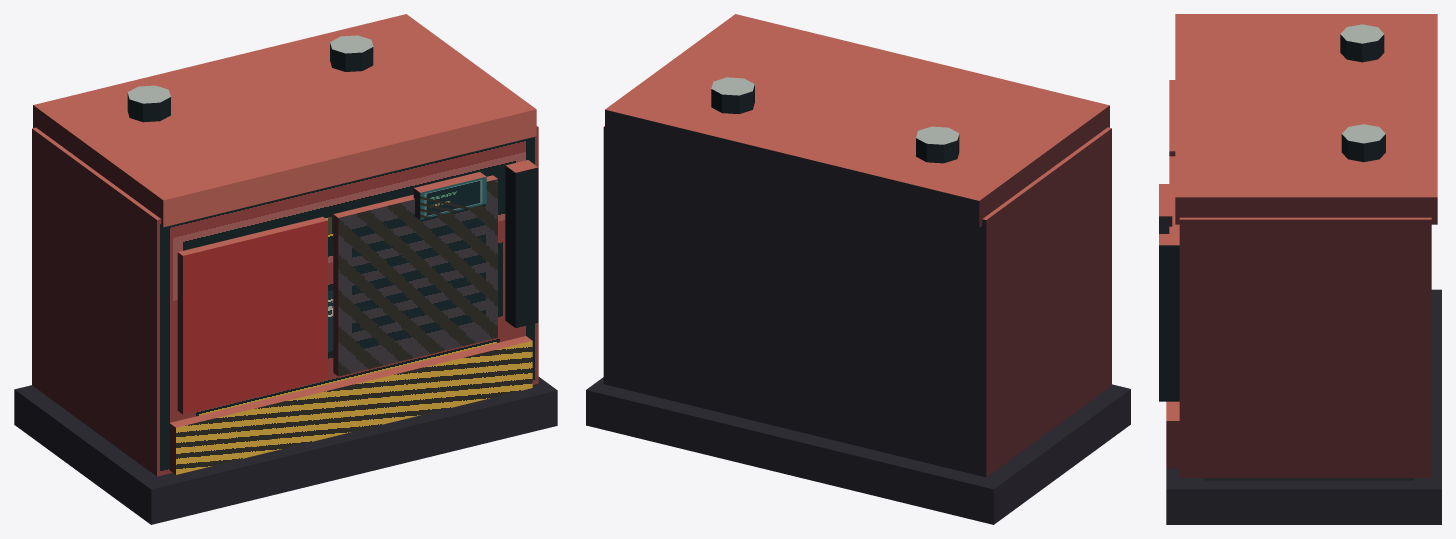
The model's file is generador_emergencia_industrial.glb.
3 renders of one model, left to right at view 1: azimuth 30°, elevation 25°; view 2: azimuth 150°, elevation 25°; view 3: azimuth 270°, elevation 25°, orthographic.
Visible parts, largest first — view 1: GENERADORES_PROPS; view 2: GENERADORES_PROPS; view 3: GENERADORES_PROPS.
Boxes of the visible parts, left/top/right/bottom form: GENERADORES_PROPS: left=14, top=14, right=557, bottom=524; GENERADORES_PROPS: left=586, top=14, right=1130, bottom=524; GENERADORES_PROPS: left=1159, top=14, right=1441, bottom=524.
Bounding box in the file's own units: 2.69 × 2.12 × 1.61.
Materials: 1 (1 with a texture image).
